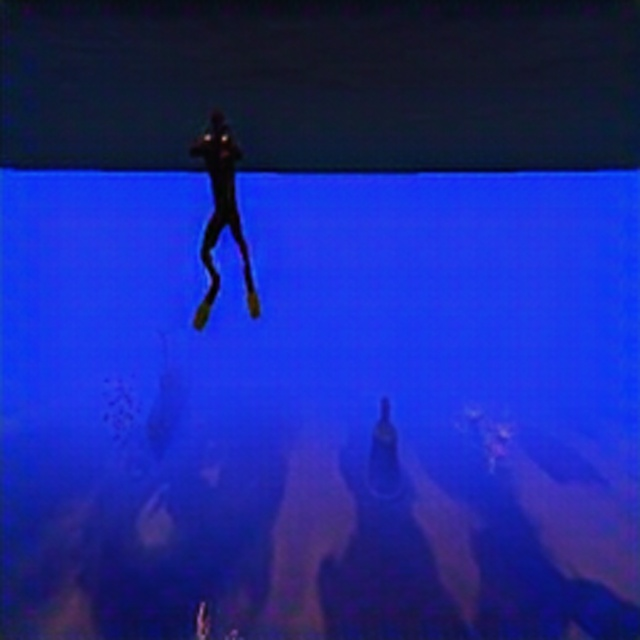diver: (187, 107, 260, 328)
